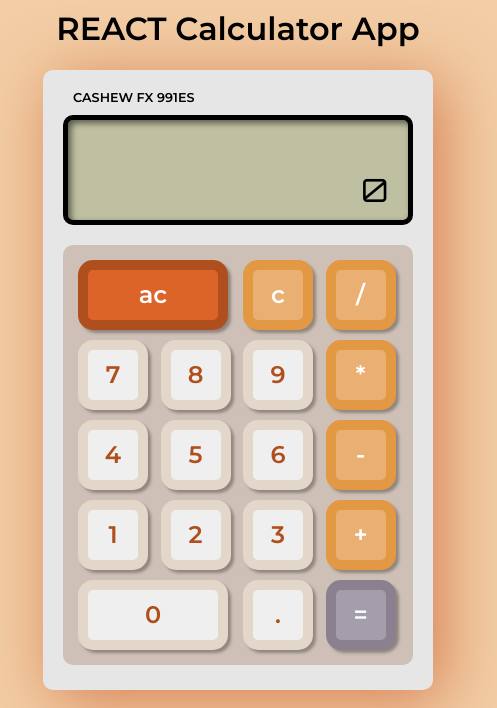
Test: check if input display is updating upon button press
Click the button "7" at (113, 375), box x1=78 y1=340 x2=148 y2=410
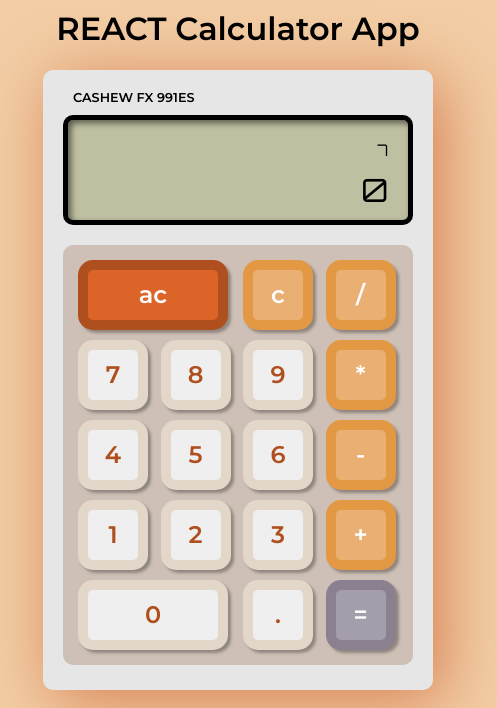
Result: the text titled "input" reads "7" at x1=377 y1=140 x2=388 y2=160
